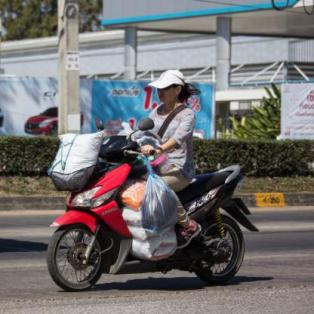Motocicleta: (41, 116, 256, 296)
